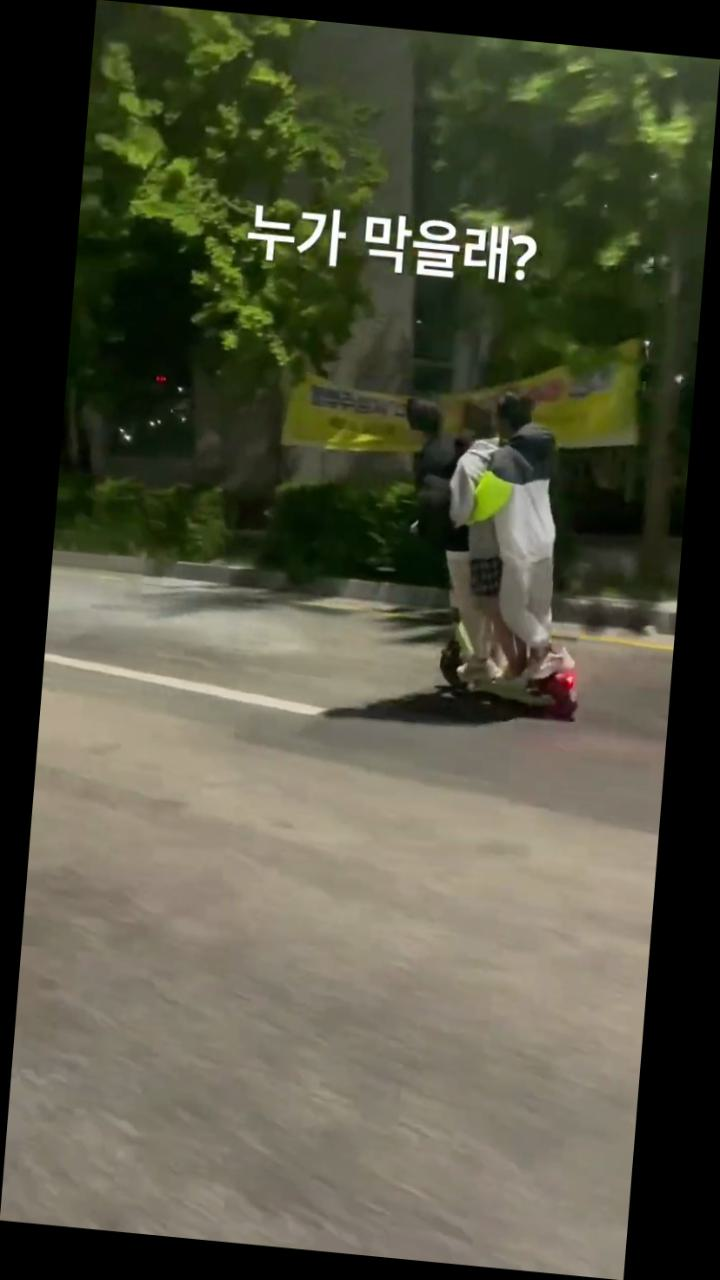multiple: (374, 379, 609, 721)
